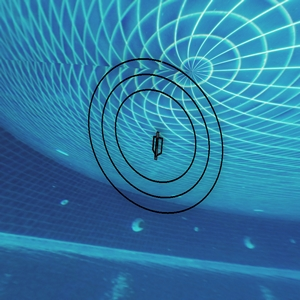circle: (89, 53, 228, 240)
submarine: (152, 134, 165, 162)
